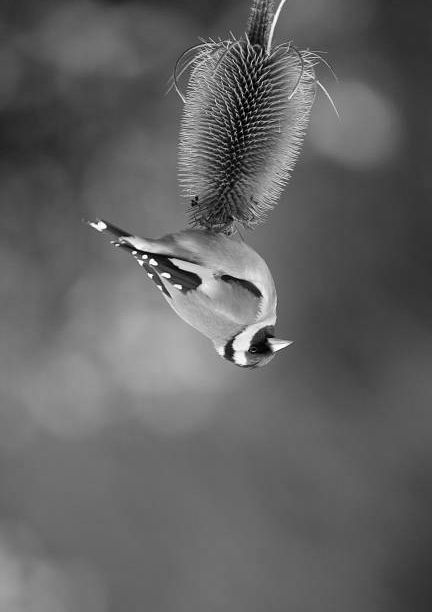Bird: (82, 206, 295, 375)
